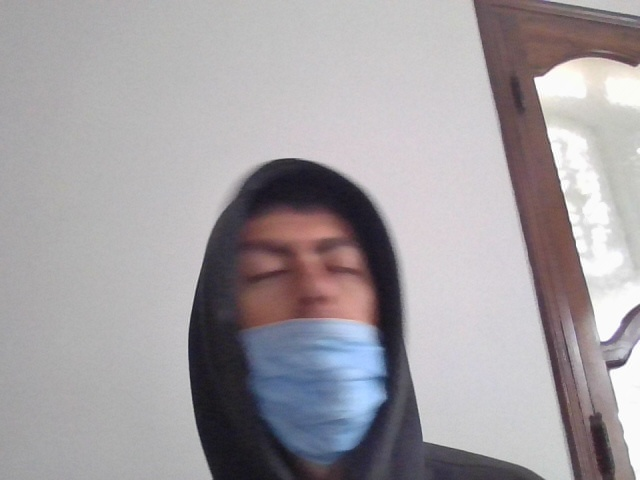mask_weared_incorrect: (230, 199, 406, 473)
